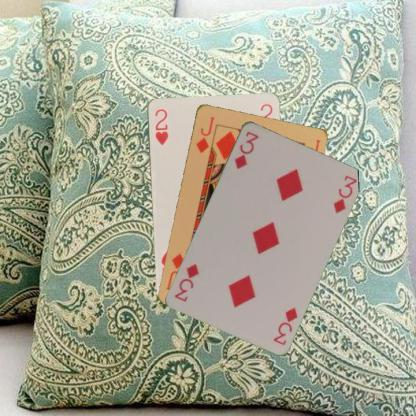2h: (152, 106, 170, 146)
3d: (270, 304, 299, 347), (231, 128, 260, 170)
Jd: (192, 114, 216, 154)
